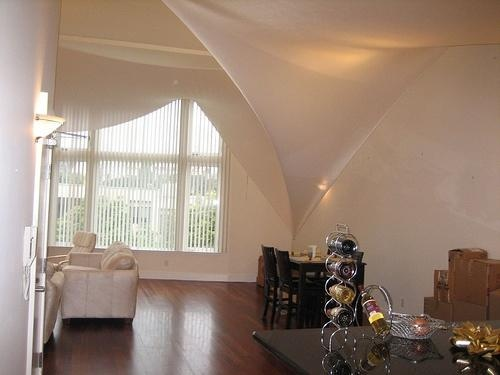bottle: (358, 285, 390, 338), (359, 337, 394, 375), (325, 345, 351, 375), (324, 308, 354, 328), (328, 285, 356, 305), (329, 262, 355, 281), (331, 239, 356, 253)
chair: (278, 248, 308, 330), (259, 244, 286, 330), (46, 232, 97, 266), (352, 252, 366, 262)
diningtable: (274, 255, 368, 333)
sofa: (63, 245, 140, 329)
